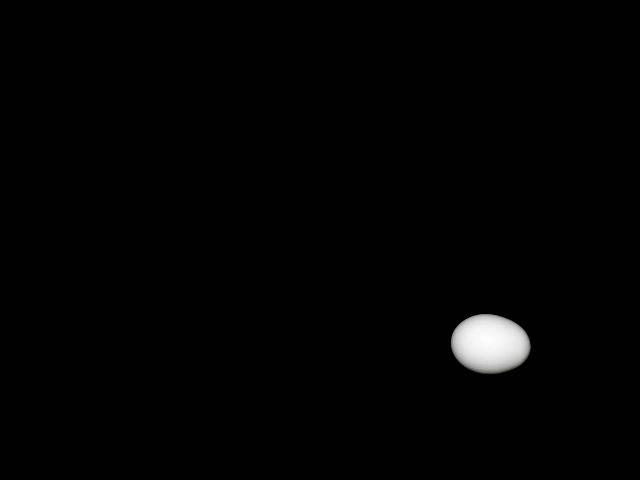egg: (450, 314, 529, 373)
